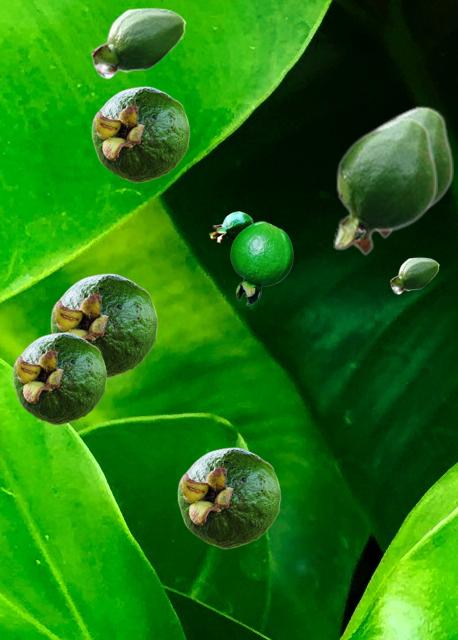guava: (333, 116, 436, 255), (359, 105, 452, 238), (50, 273, 157, 378), (177, 447, 280, 548), (91, 86, 189, 182), (12, 332, 106, 424), (91, 7, 185, 78), (230, 221, 292, 304), (390, 257, 438, 293), (209, 211, 252, 242)
